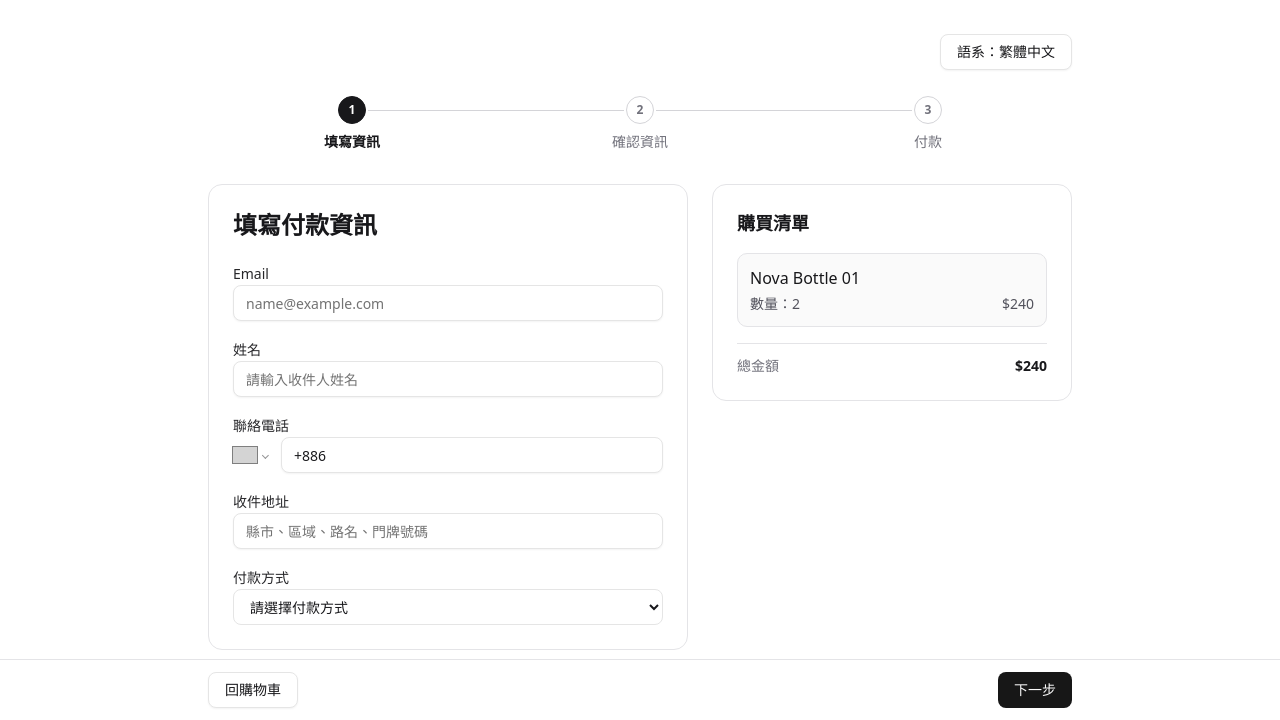
Test: Create an order › shows cart validation notice when cart has an invalid item
The width and height of the screenshot is (1280, 720).
In the field with id "email": (448, 303) [233,285,663,321], type "test@example.com"
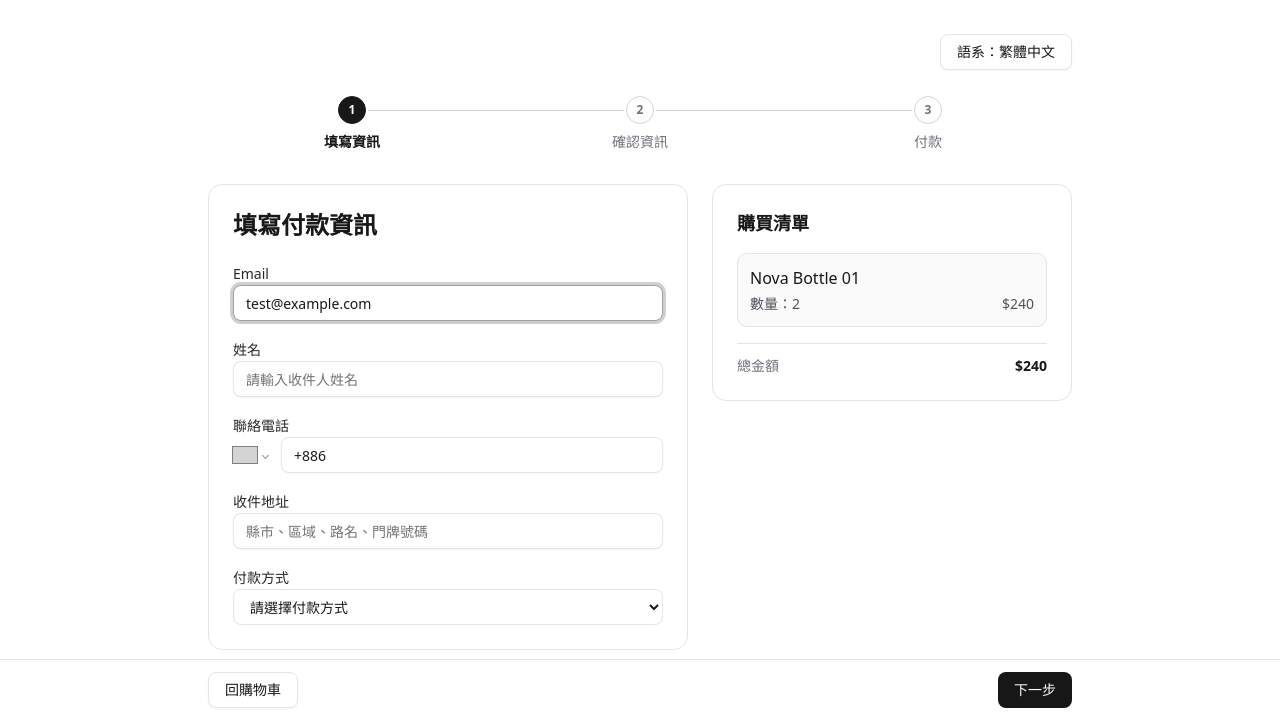
In the field with id "name": (448, 379) [233,361,663,397], type "王小明"
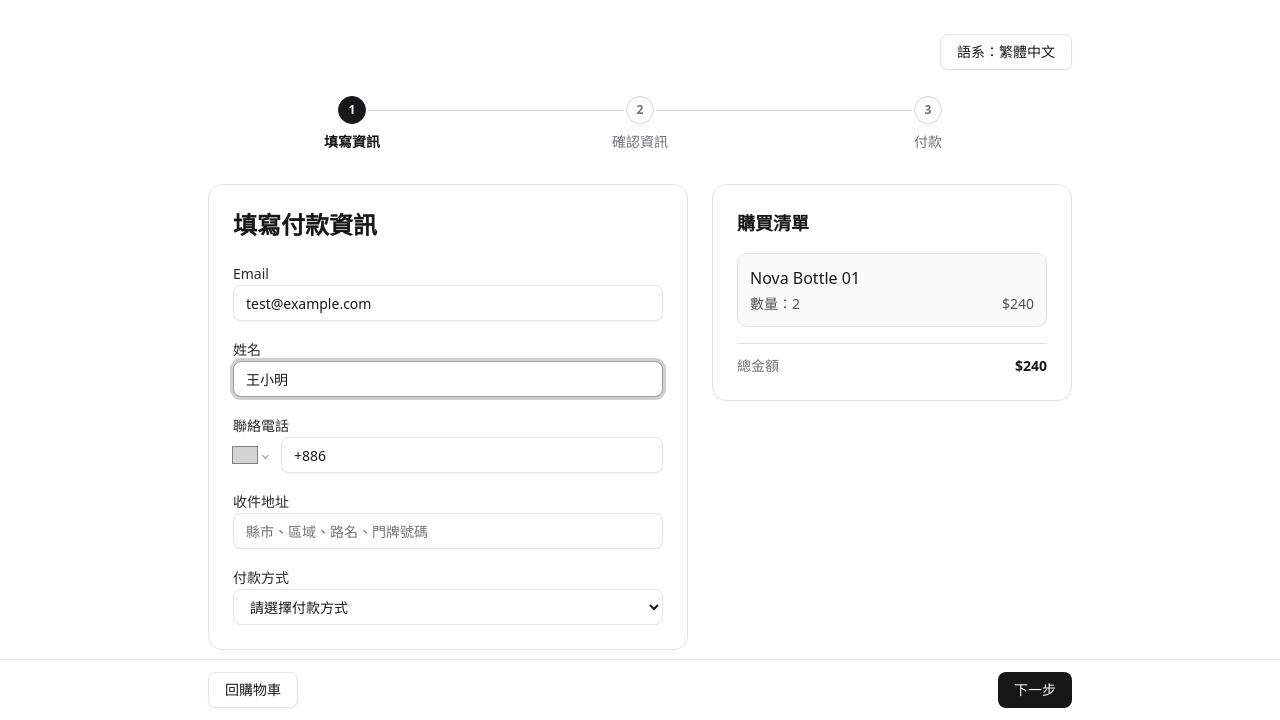
In the field named "phoneNumber": (472, 455) [281,437,663,473], type "912345678"
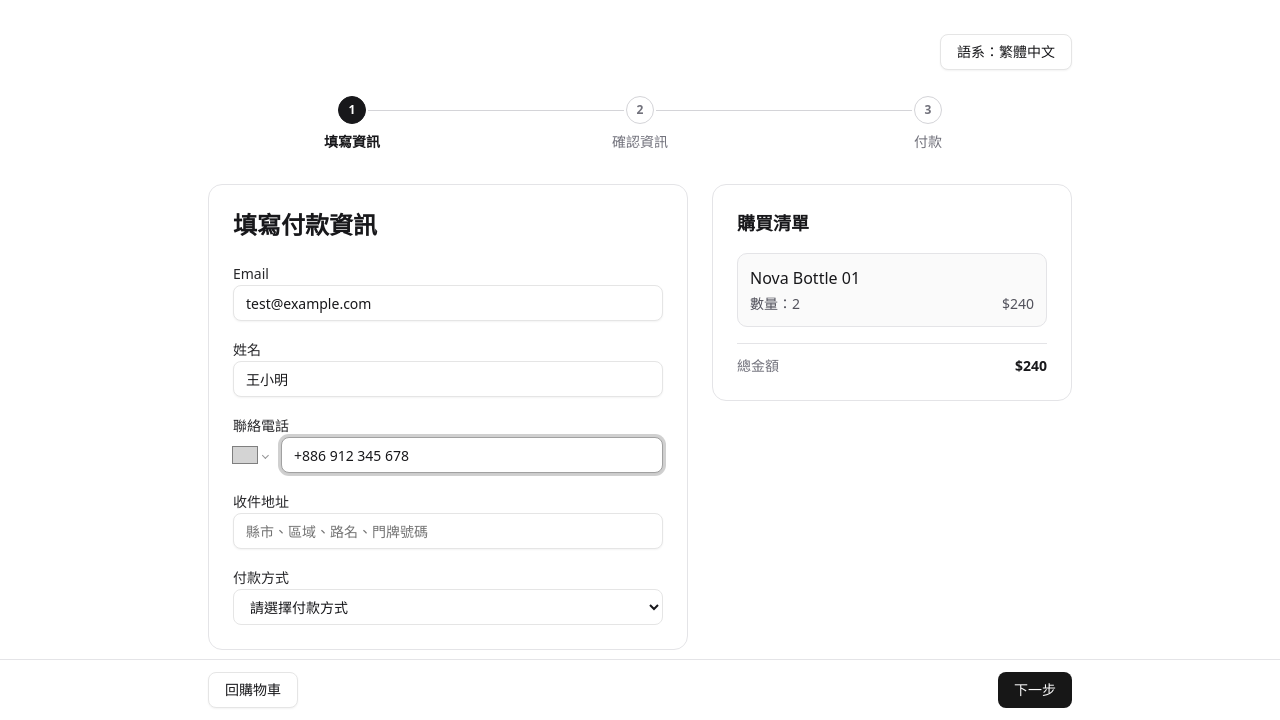
In the field with id "address": (448, 531) [233,513,663,549], type "台北市信義區信義路五段7號"
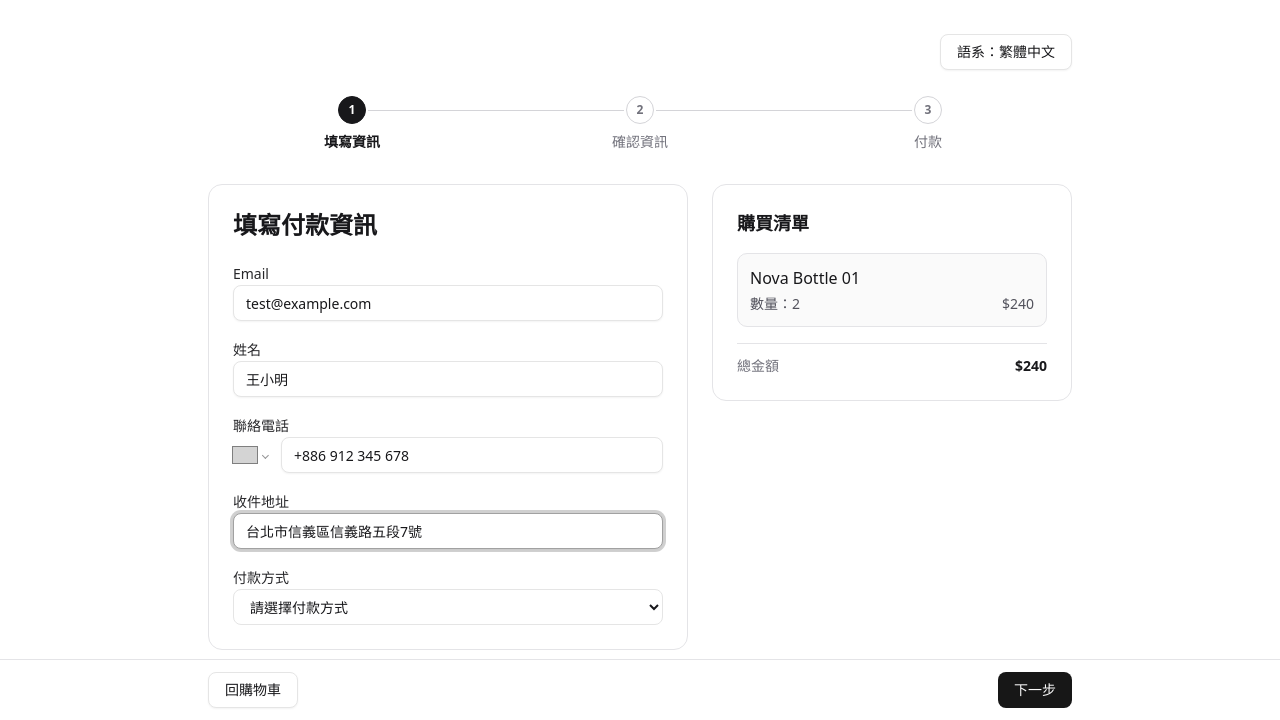
Select "信用卡" in the dropdown labelled "付款方式": (448, 607) [233,589,663,625]
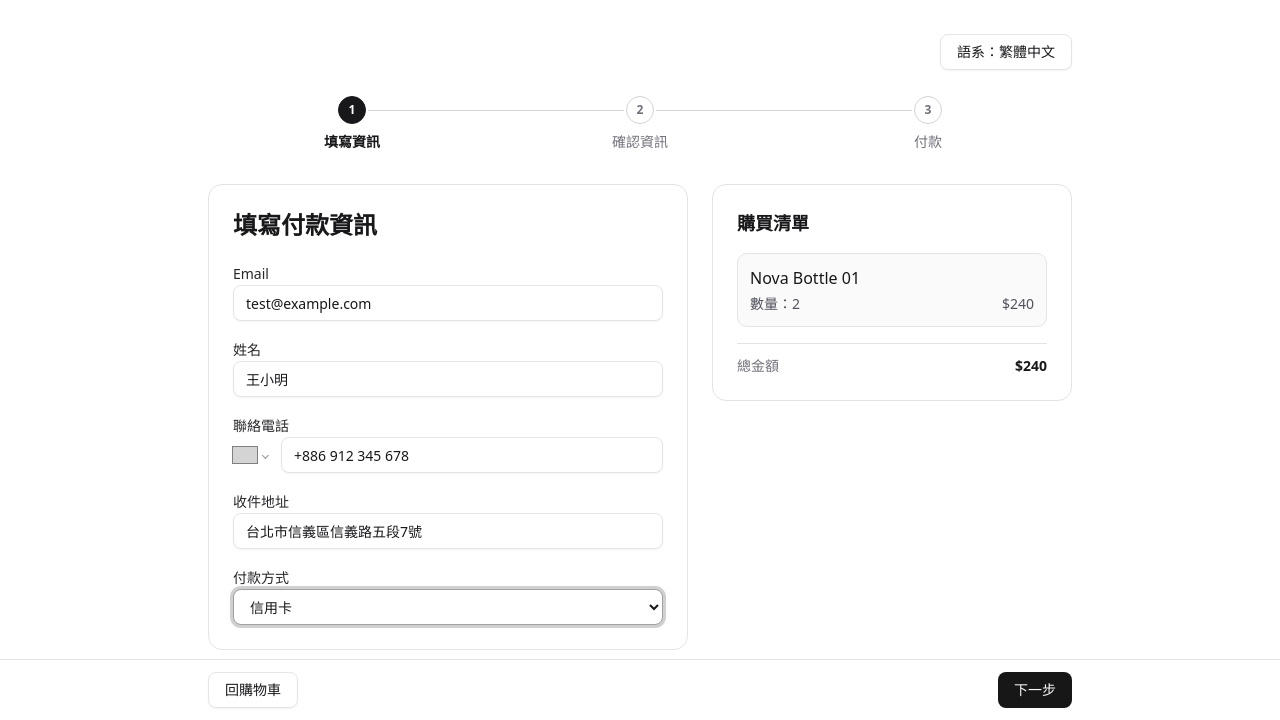
Click the button "下一步": (1035, 690) [998,672,1072,708]
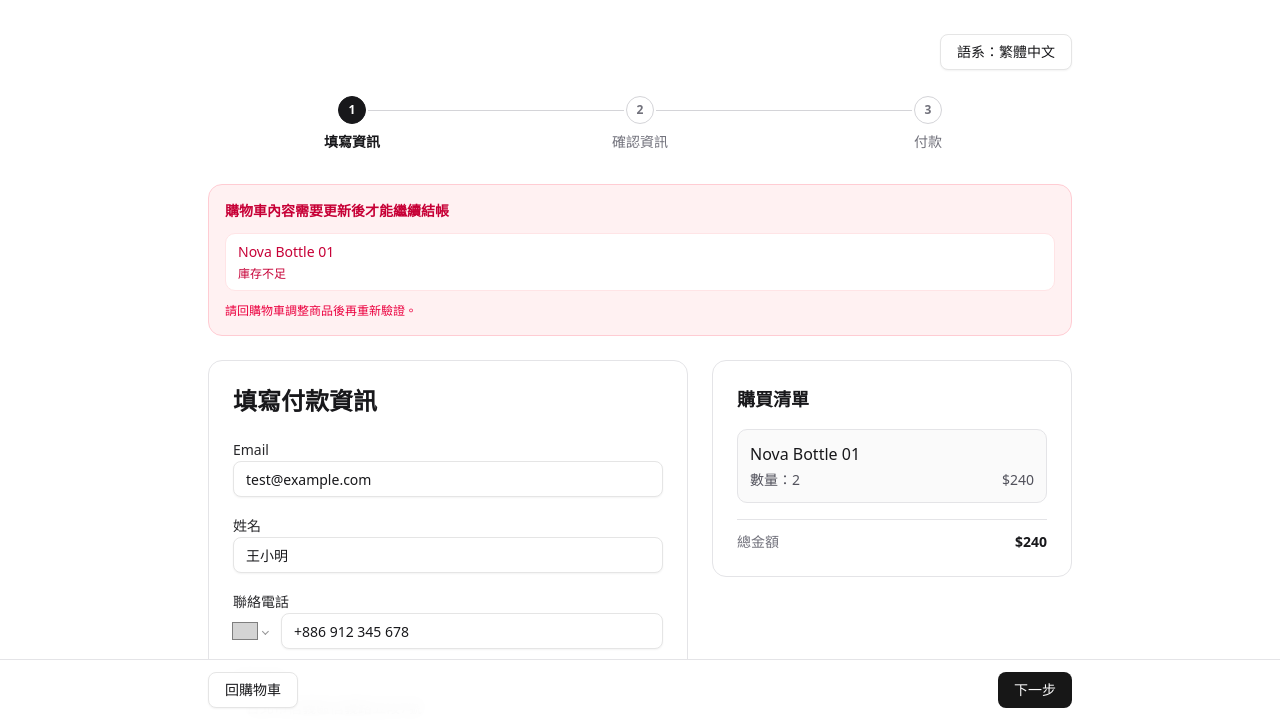
Result: the heading "購物車內容需要更新後才能繼續結帳" is shown at [225,201,449,220]
Result: the text "Nova Bottle 01" below "購物車內容需要更新後才能繼續結帳" is shown at [238,242,334,261]
Result: the text "庫存不足" is shown at [238,265,286,282]
